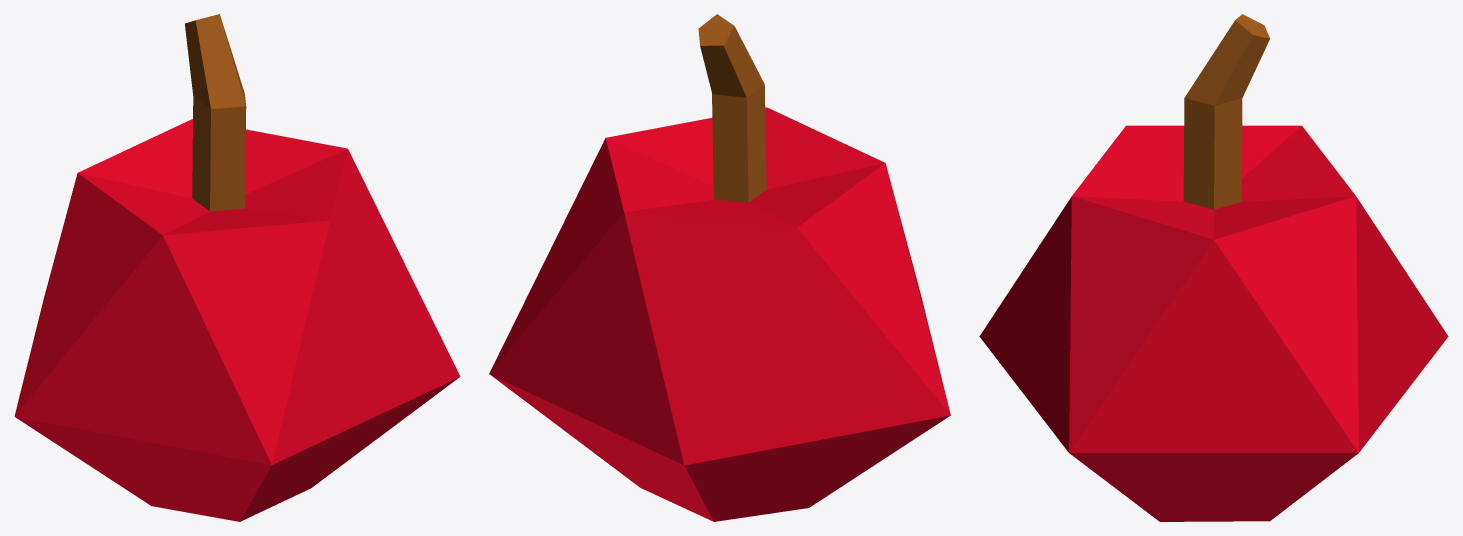
File: apple.fbx
3 views of the same model, side by side, from view 1: azimuth 30°, elevation 25°; view 2: azimuth 150°, elevation 25°; view 3: azimuth 270°, elevation 25° (orthographic). The views are drawn at different scales.
Visible parts, largest first — view 1: Icosphere; view 2: Icosphere; view 3: Icosphere.
Boxes of the visible parts, x1,y1,x2,y2 form: Icosphere: [14, 14, 460, 521]; Icosphere: [489, 14, 950, 521]; Icosphere: [979, 14, 1448, 521].
Bounding box in the file's own units: 170 × 162 × 192.
